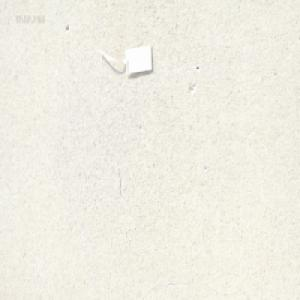LuggageTag: (100, 41, 154, 76)
